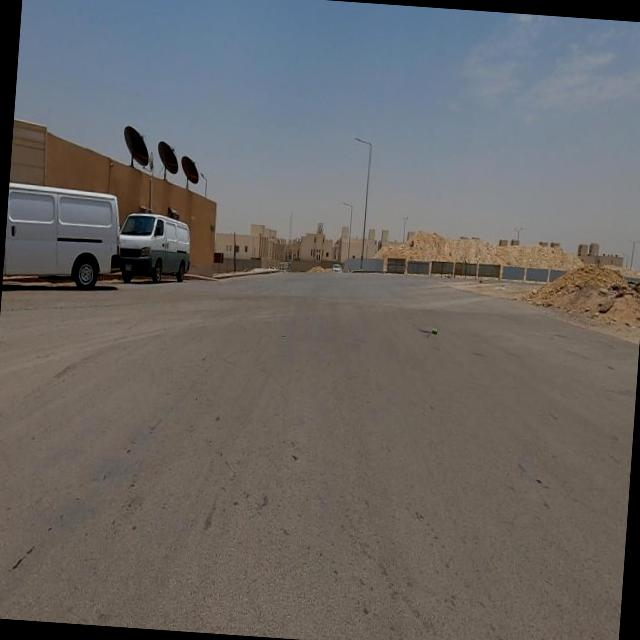debris: (416, 298, 460, 370)
